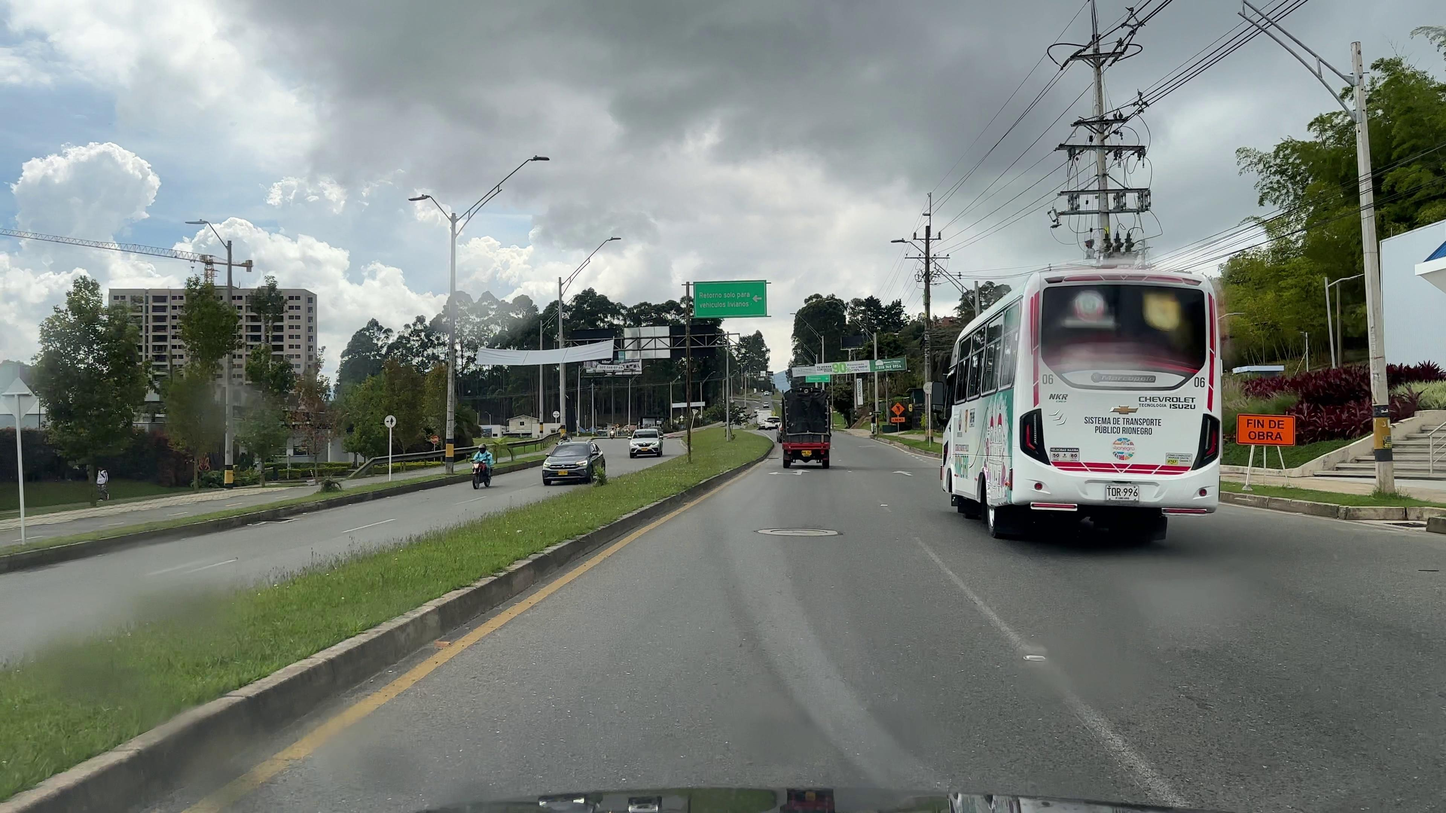registro: (770, 529, 827, 534)
rejilla: (1381, 522, 1427, 527)
